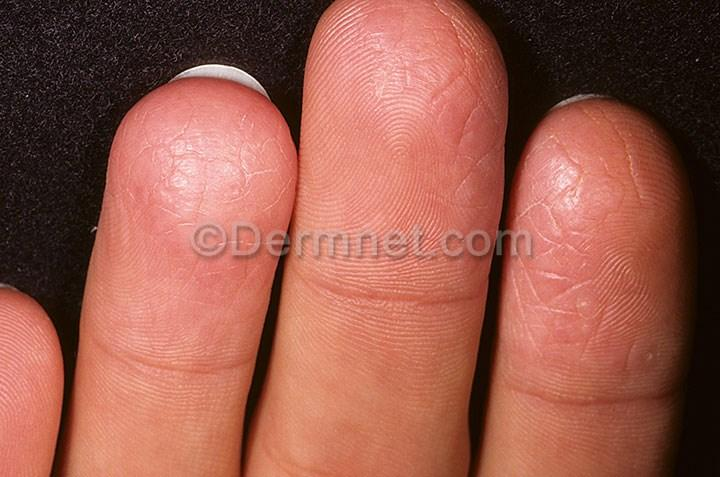Eczema: (368, 26, 437, 97), (618, 346, 659, 381)
